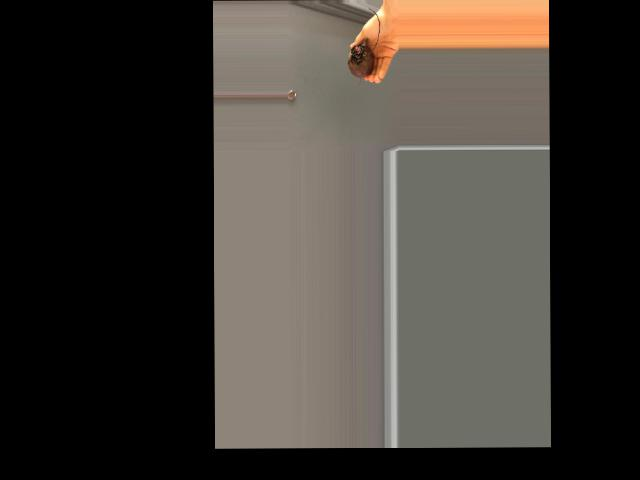beet: (348, 8, 380, 86)
